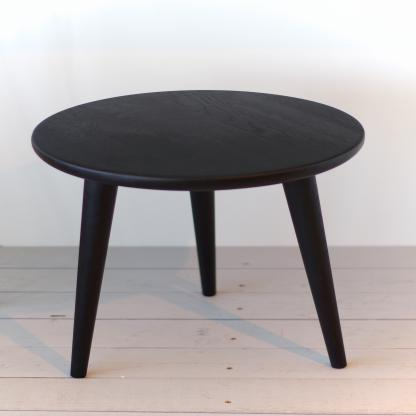table: (30, 93, 365, 378)
